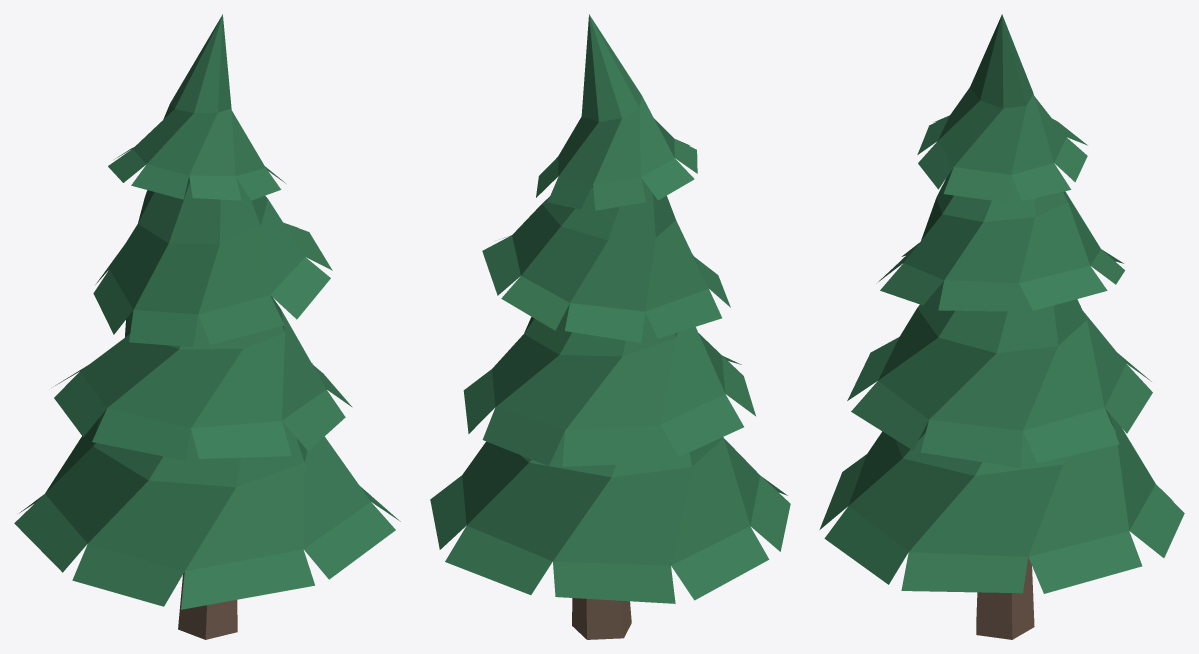
File: spruce_small.fbx
3 views of the same model, side by side, from view 1: azimuth 30°, elevation 25°; view 2: azimuth 150°, elevation 25°; view 3: azimuth 270°, elevation 25° (orthographic).
Parts seen in each view (by area): view 1: spruce_small; view 2: spruce_small; view 3: spruce_small.
Part boxes in pixels (left/top/right/bottom): spruce_small: left=14, top=14, right=400, bottom=639; spruce_small: left=430, top=14, right=790, bottom=639; spruce_small: left=819, top=14, right=1184, bottom=639.
Bounding box in the file's own units: 160 × 301 × 161.
